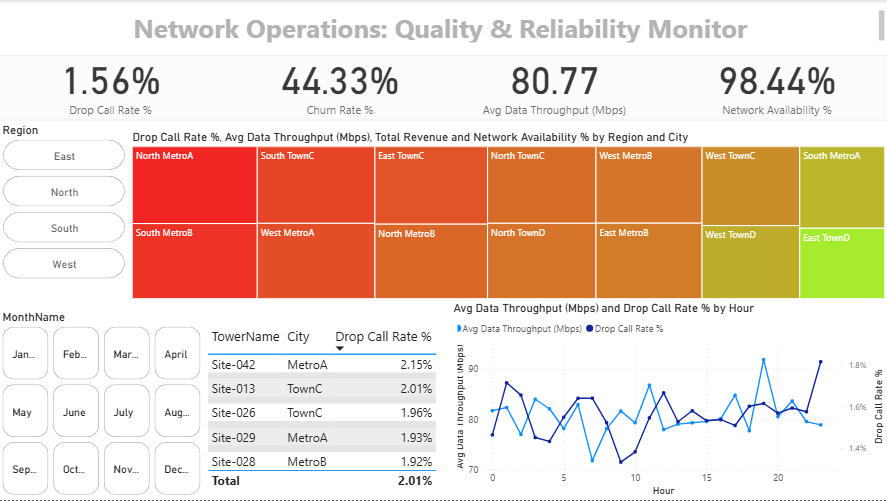

This screenshot's page, from the dashboard's own definition file:
{"tool":"powerbi","page":{"name":"Page 3","canvas":[1280,720],"ordinal":2},"visuals":[{"type":"card","fields":{"Values":["_Measures.Avg Drop Call Rate"]},"box":[0,66.2,321.1,108],"z":0},{"type":"card","fields":{"Values":["_Measures.Churn Rate %"]},"box":[331.2,66.2,319.7,108],"z":1000},{"type":"card","fields":{"Values":["_Measures.Avg Data Throughput (Mbps)"]},"box":[639.4,66.2,321.1,108],"z":2000},{"type":"card","fields":{"Values":["_Measures.Network Availability %"]},"box":[960.5,66.2,319.7,108],"z":3000},{"type":"treemap","fields":{"Group":["DimCell.Region","DimCell.City"],"Values":["_Measures.Avg Drop Call Rate"]},"box":[187.2,187.2,1093,247.7],"z":4000},{"type":"lineChart","fields":{"Category":["FactNetworkHourly.Hour"],"Y":["_Measures.Avg Data Throughput (Mbps)"],"Y2":["_Measures.Avg Drop Call Rate"]},"box":[650,433.8,629.4,286.8],"z":5000},{"type":"tableEx","fields":{"Values":["DimCell.TowerName","DimCell.City","_Measures.Avg Drop Call Rate"]},"box":[295.6,464.7,364.7,255.9],"z":6000},{"type":"textbox","box":[0,10,1280.2,56.2],"z":7000},{"type":"advancedSlicerVisual","fields":{"Values":["DimDate.MonthName"]},"box":[0,447.1,295.6,273.5],"z":8000},{"type":"advancedSlicerVisual","fields":{"Values":["DimCustomer.Region"]},"box":[0,177.7,187.5,229.9],"z":9000},{"type":"shape","box":[0,79.4,1279.4,94.1],"z":10000}]}

Visuals, with their boxes in screenshot pixels (x1, y1, x2, y2), scaled from the page's 1280x720 canvas onto the 887x501 screenshot:
card - _Measures.Avg Drop Call Rate: bbox=(0, 46, 223, 121)
card - _Measures.Churn Rate %: bbox=(230, 46, 451, 121)
card - _Measures.Avg Data Throughput (Mbps): bbox=(443, 46, 666, 121)
card - _Measures.Network Availability %: bbox=(666, 46, 886, 121)
treemap - DimCell.Region x DimCell.City: bbox=(130, 130, 886, 303)
lineChart - FactNetworkHourly.Hour x _Measures.Avg Data Throughput (Mbps): bbox=(450, 302, 886, 500)
tableEx - DimCell.TowerName x DimCell.City: bbox=(205, 323, 458, 500)
textbox: bbox=(0, 7, 886, 46)
advancedSlicerVisual - DimDate.MonthName: bbox=(0, 311, 205, 500)
advancedSlicerVisual - DimCustomer.Region: bbox=(0, 124, 130, 284)
shape: bbox=(0, 55, 886, 121)
